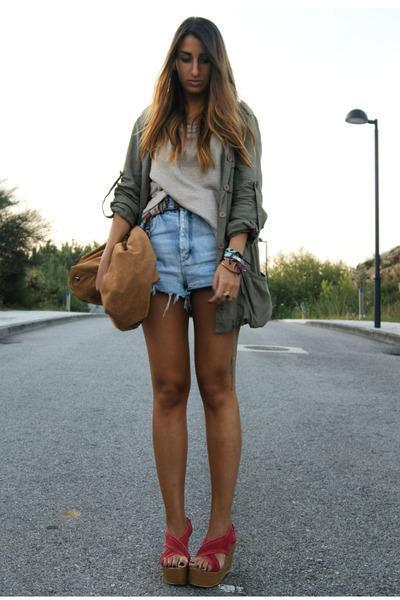bag: (68, 228, 163, 330)
jacket: (108, 133, 276, 338)
shirt: (142, 114, 221, 223)
shoe: (163, 525, 239, 587)
shorts: (150, 194, 224, 299)
